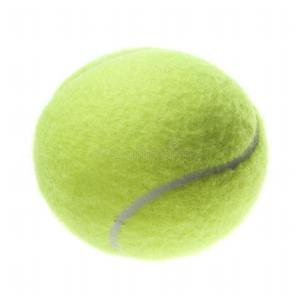Tennis: (32, 39, 275, 266)
